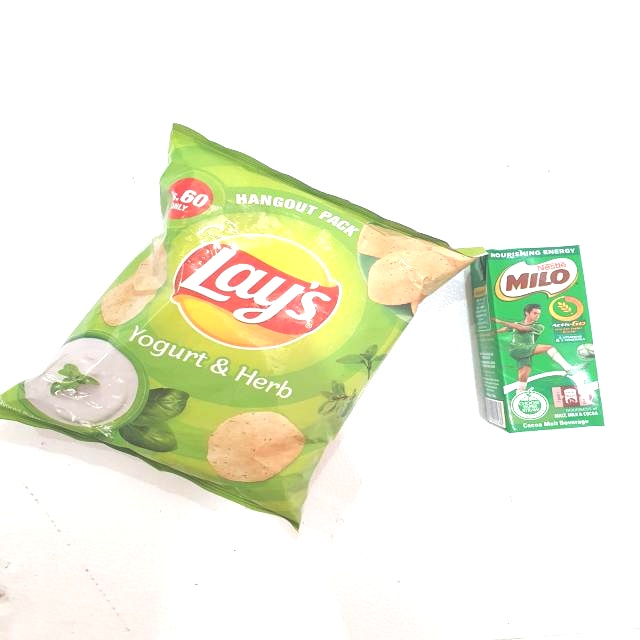lays-large: (36, 157, 439, 498)
milo-180ml: (489, 249, 603, 428)
